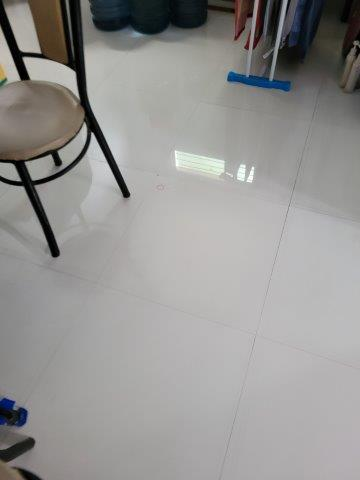karet: (154, 183, 164, 191)
